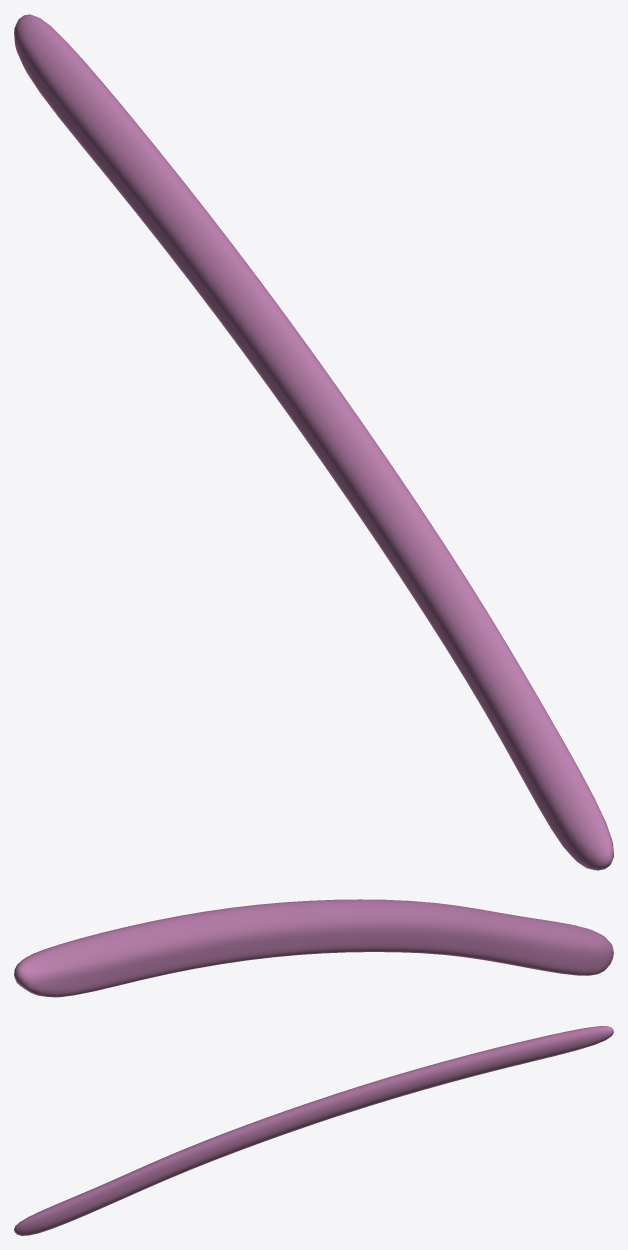
3 views of the same model, one above another, from view 1: azimuth 30°, elevation 25°; view 2: azimuth 150°, elevation 25°; view 3: azimuth 270°, elevation 25° (orthographic). The views are drawn at different scales.
Visible parts, largest first — view 1: 右侧副神经核; view 2: 右侧副神经核; view 3: 右侧副神经核.
Part boxes in pixels (x1,y1,x2,y2): 右侧副神经核: (14,14,613,870); 右侧副神经核: (14,899,613,997); 右侧副神经核: (14,1026,613,1235).
Size of the model in its own units: 0.00174 by 0.0154 by 0.0394.
